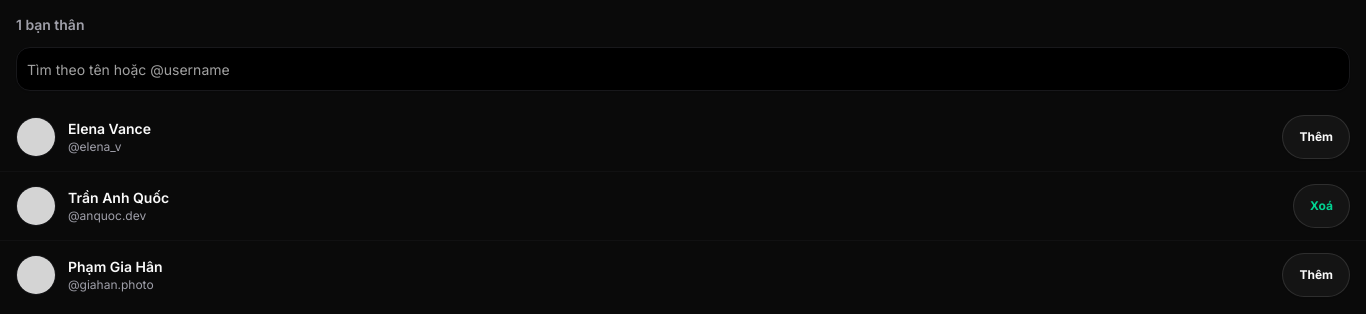
Test: CloseFriendsList › toggles a row through the service and updates the count
Expected: the text "Elena Vance" is shown, [68, 119, 151, 139]
Expected: the text "1 bạn thân" is shown, [16, 16, 84, 33]
Click the button "Thêm" in the row of "Elena Vance".
click(1316, 137)  # box [1282, 115, 1350, 159]
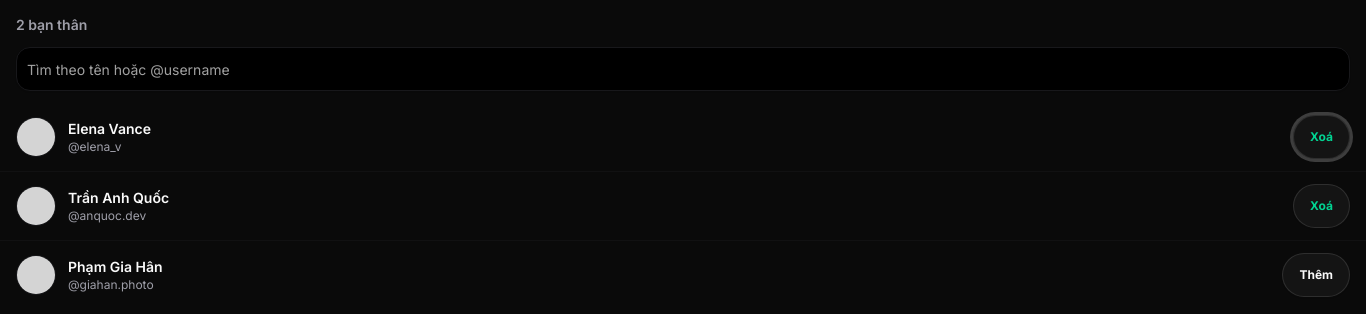
Expected: the text "2 bạn thân" is shown, [16, 16, 87, 33]
Click the button "Xoá" in the row of "Trần Anh Quốc".
click(1322, 206)  # box [1293, 184, 1350, 228]
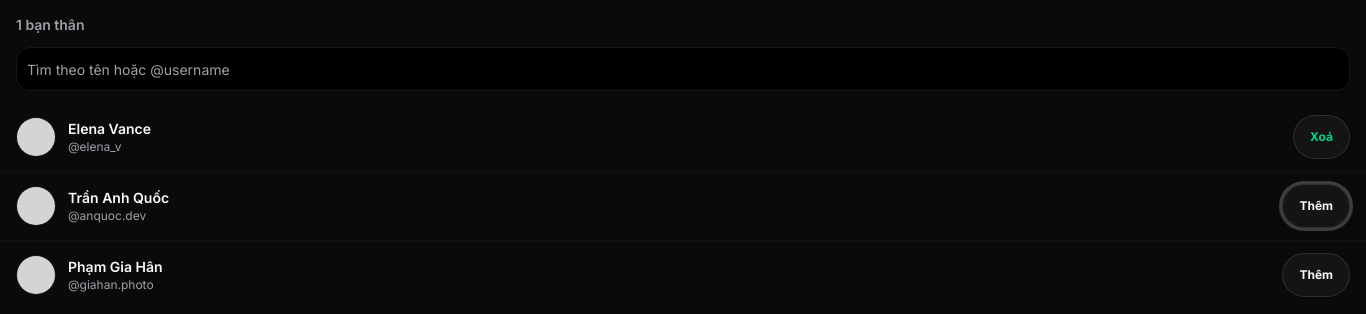
Expected: the text "1 bạn thân" is shown, [16, 16, 84, 33]
